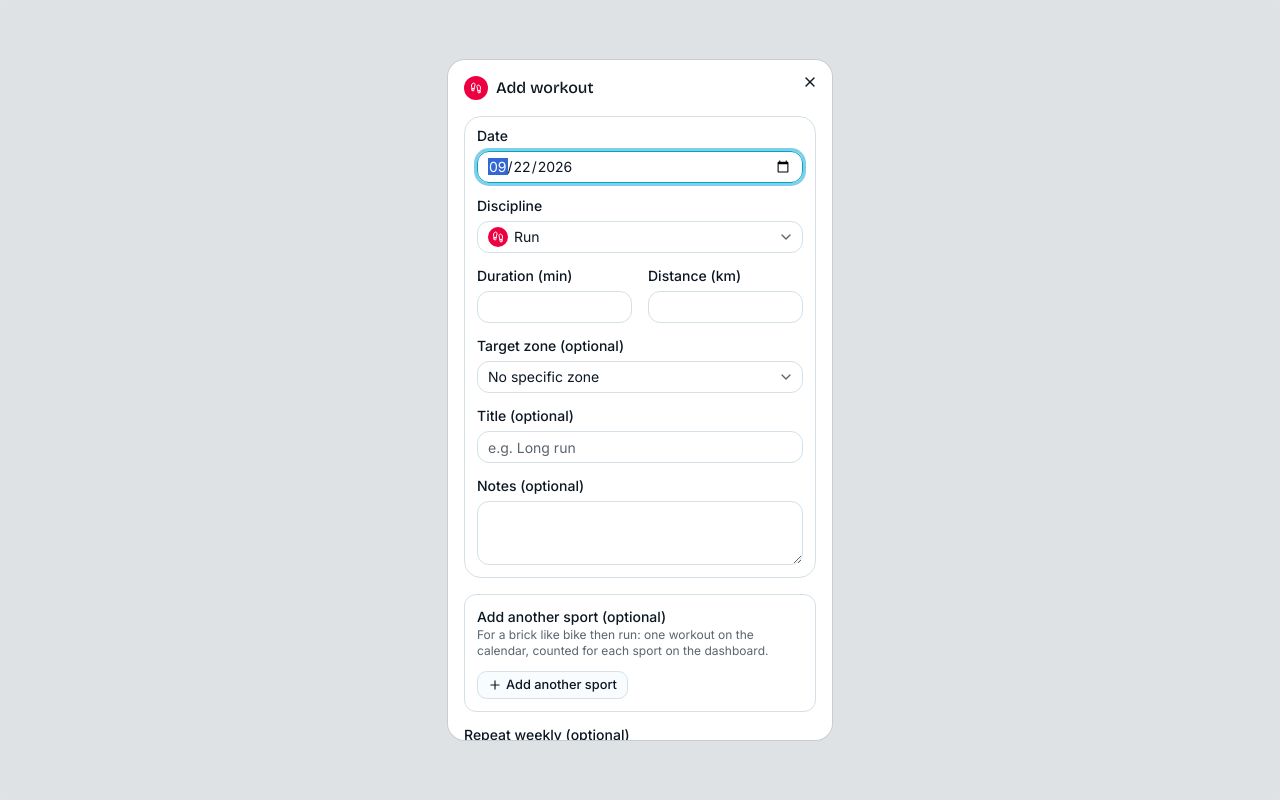
Test: WorkoutFormDialog: multi-sport (brick) workouts › refuses to save a leg with neither duration nor distance, and explains why
The image size is (1280, 800).
In the number field labelled "Duration (min)": (554,307) top-left (477, 291), bottom-right (632, 323), type "60"
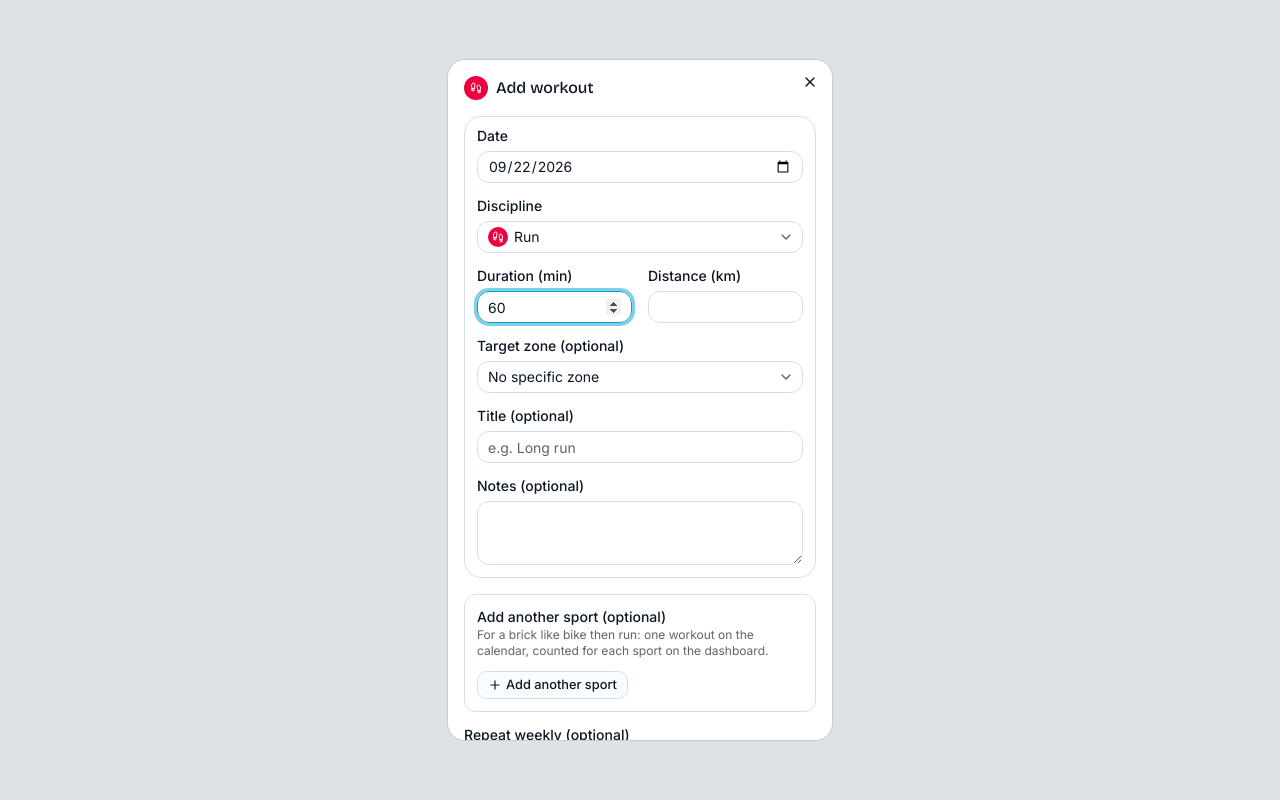
Click the button "Add another sport": (552,685) top-left (477, 671), bottom-right (628, 699)
(page scrolled)
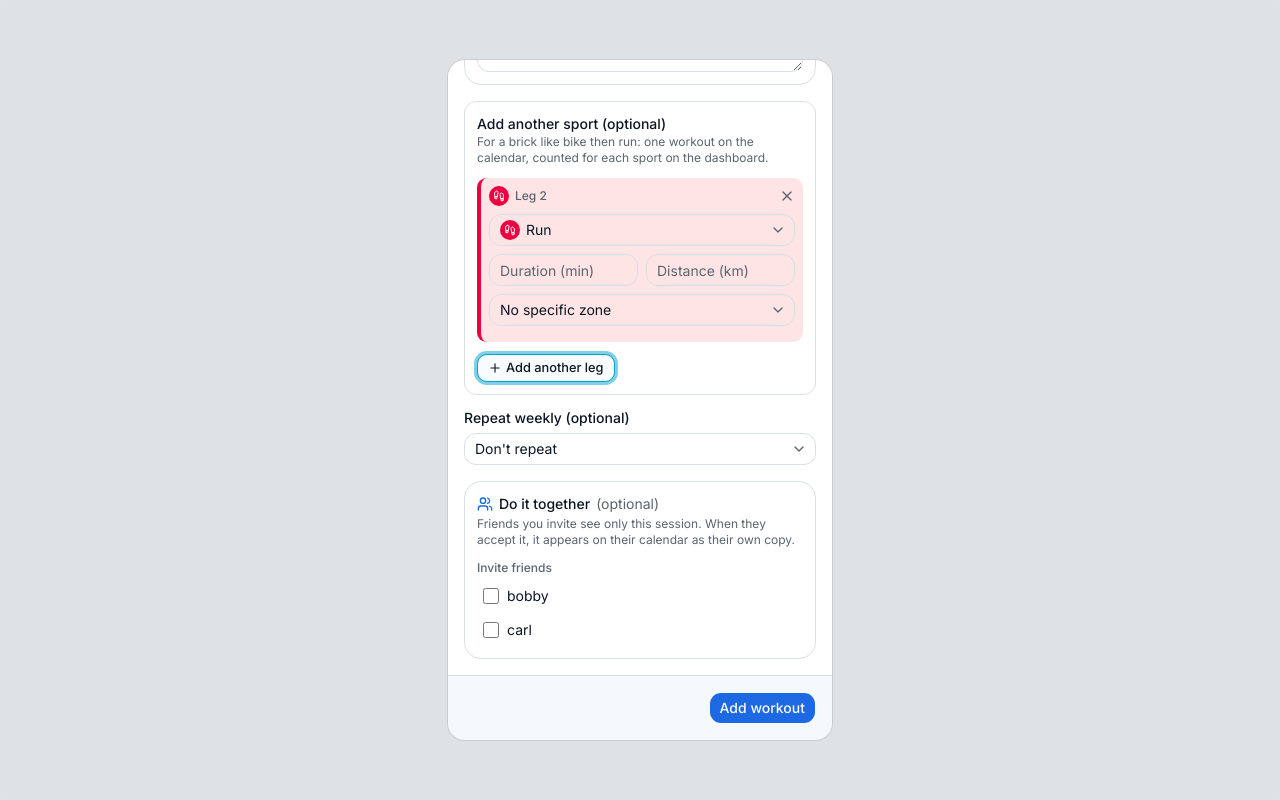
Click the button "Add workout": (762,708) top-left (708, 692), bottom-right (816, 724)
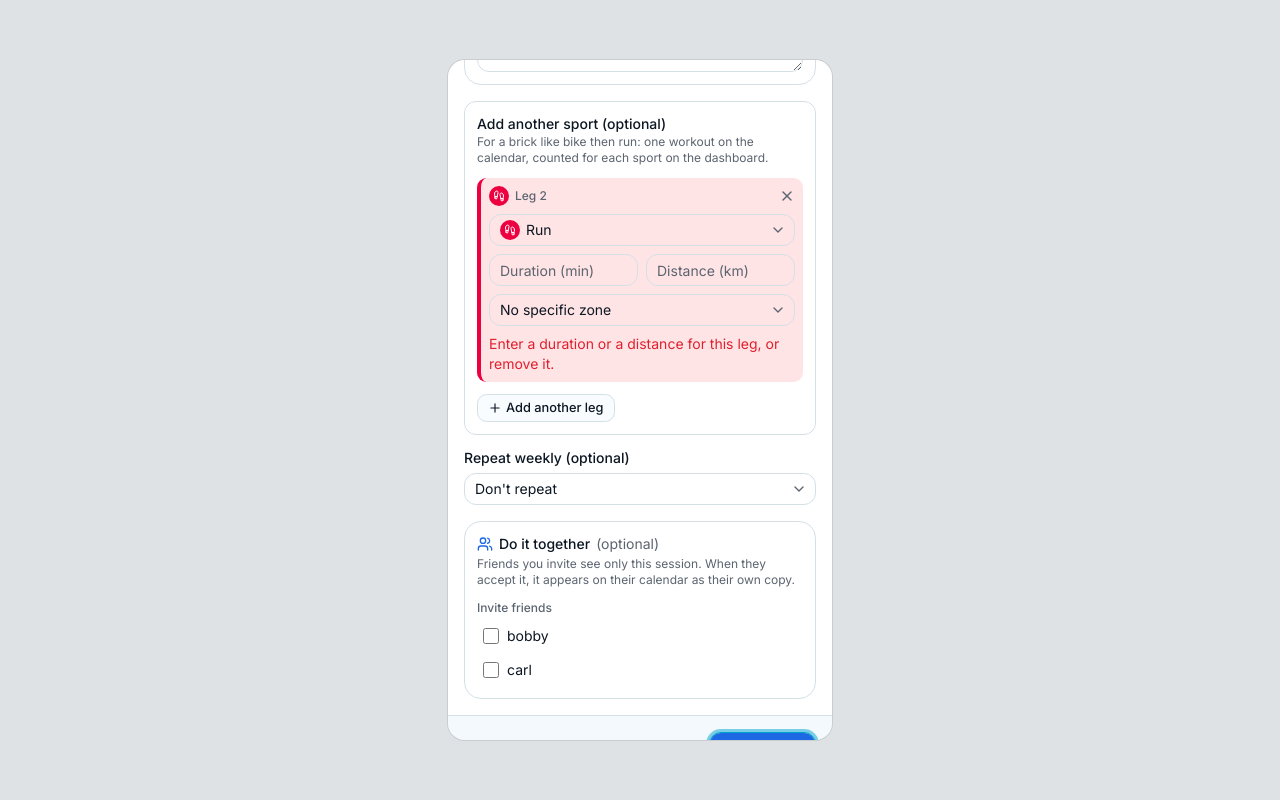
Now the text "Enter a duration or a distance for this leg, or remove it." is shown, box top-left (489, 334), bottom-right (795, 374)
